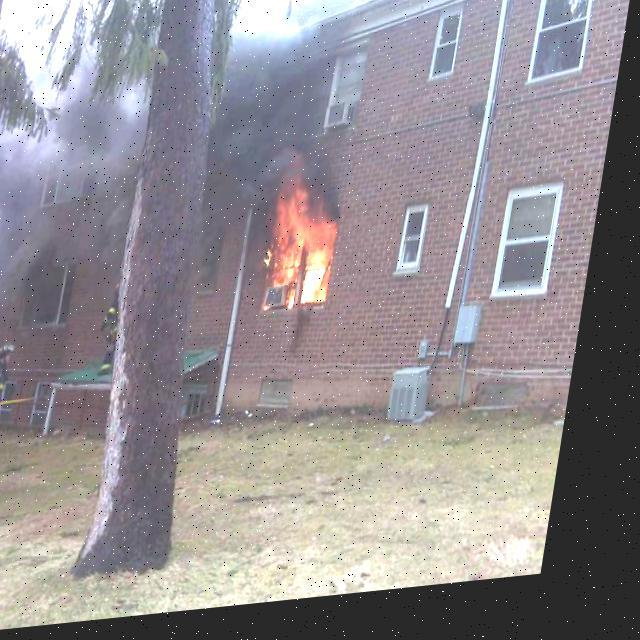Fire: (270, 190, 354, 322)
